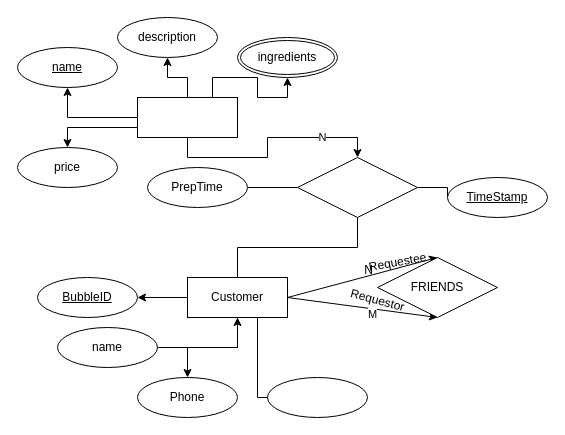
The diagram is 565 pixels wide and 435 high, and some of its shapes have lost their labels. Here are the shapes that lost their labels. From the top down, the centre of each, then its label:
(187,117): Bubble Tea
(357,187): BUY
(317,397): Email
